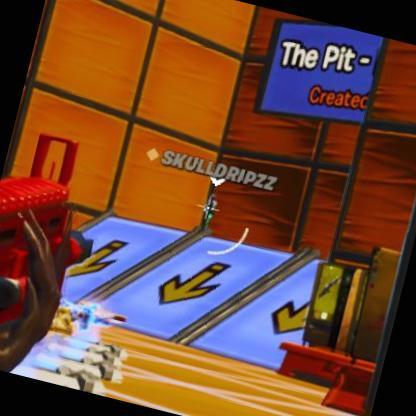person: (198, 194, 223, 235)
